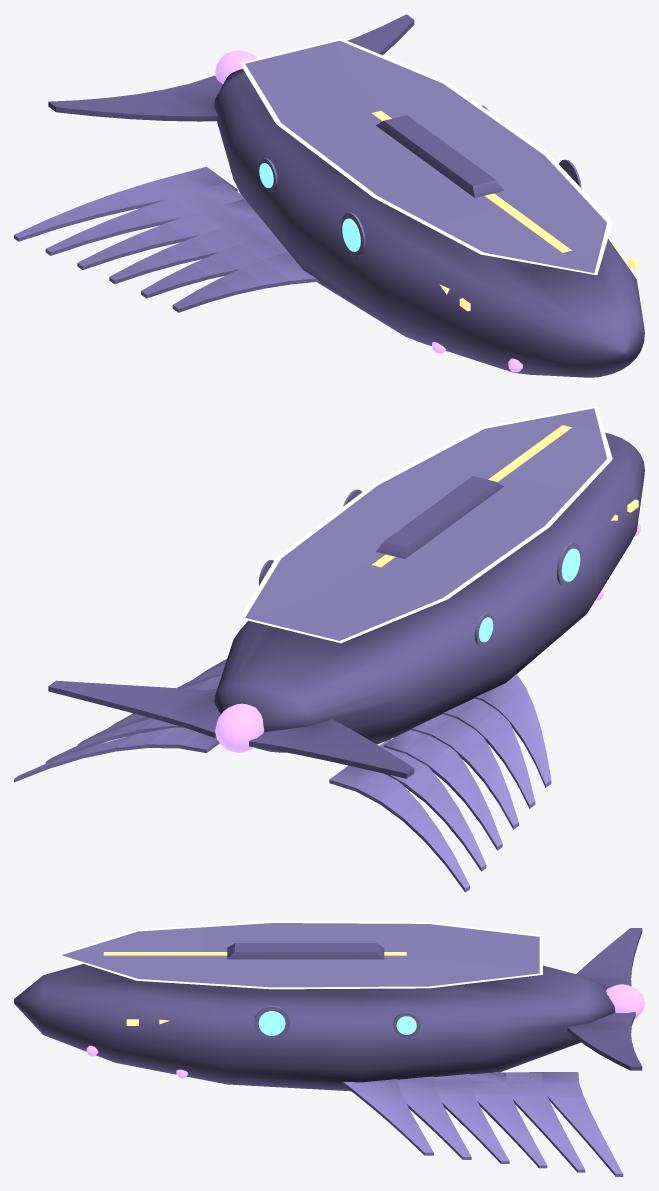
File: whale.glb
The picture shows the model from 3 angles, top to bottom: view 1: azimuth 30°, elevation 25°; view 2: azimuth 150°, elevation 25°; view 3: azimuth 270°, elevation 25°; orthographic projection. The views are drawn at different scales.
Parts seen in each view (by area): view 1: whale; view 2: whale; view 3: whale.
Part boxes in pixels (left/top/right/bottom): whale: left=14, top=14, right=644, bottom=377; whale: left=14, top=406, right=644, bottom=892; whale: left=14, top=921, right=644, bottom=1176.
Bounding box in the file's own units: 18.4 × 6.99 × 28.12.
